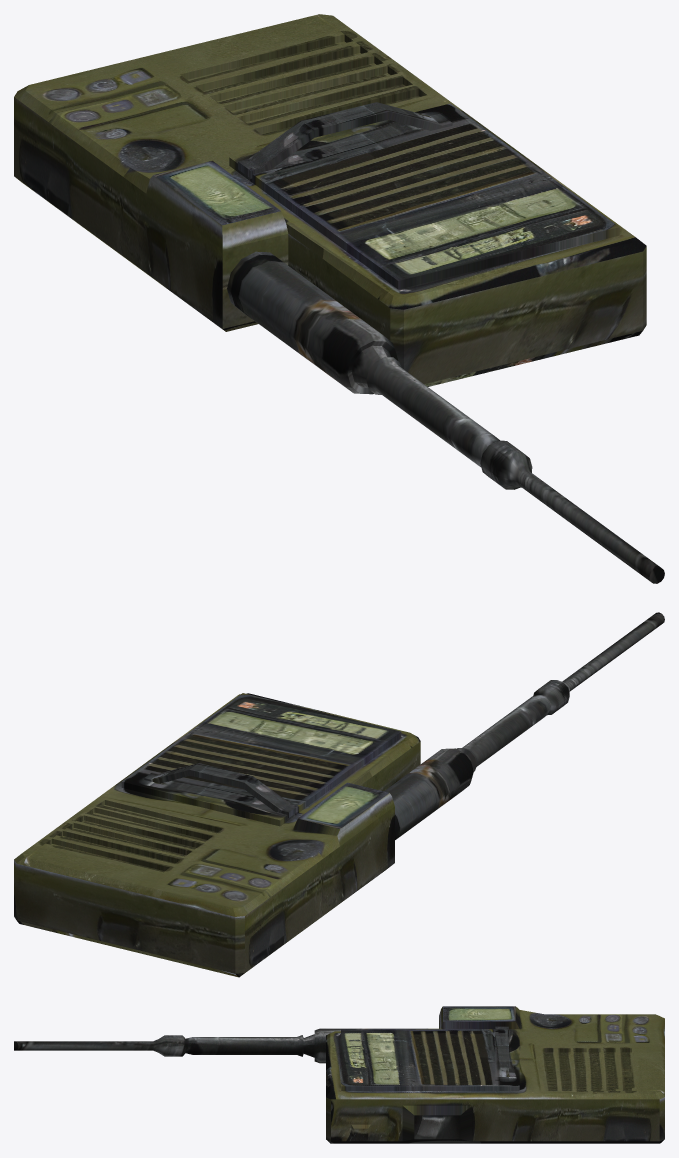
The model's file is SM_Detector00.fbx.
3 renders of one model, top to bottom at view 1: azimuth 30°, elevation 25°; view 2: azimuth 150°, elevation 25°; view 3: azimuth 270°, elevation 25°, orthographic. The views are drawn at different scales.
Visible parts, largest first — view 1: SM_Detector00; view 2: SM_Detector00; view 3: SM_Detector00.
Boxes of the visible parts, x1,y1,x2,y2 form: SM_Detector00: (14, 14, 664, 583); SM_Detector00: (14, 612, 664, 977); SM_Detector00: (14, 1006, 664, 1143).
Bounding box in the file's own units: 16.33 × 6.17 × 51.71.
